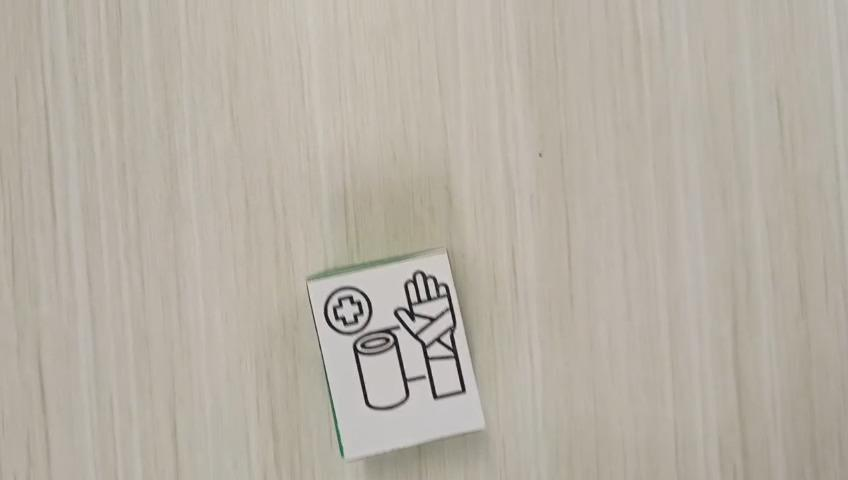Bandages: (306, 247, 485, 459)
